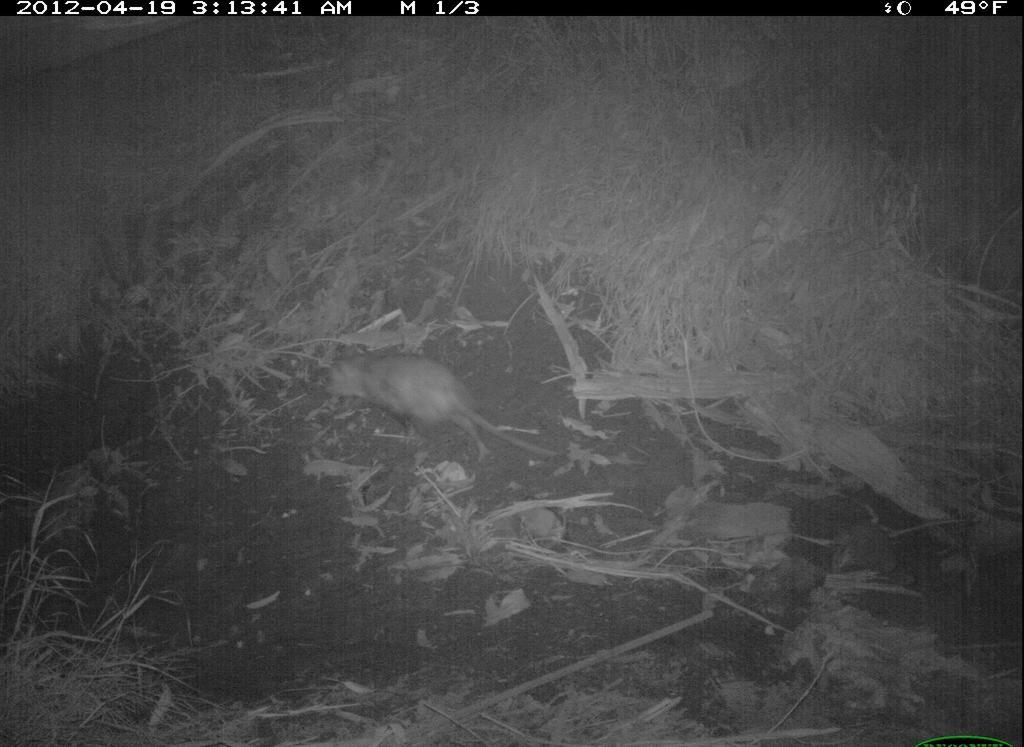opossum: (309, 324, 573, 486)
